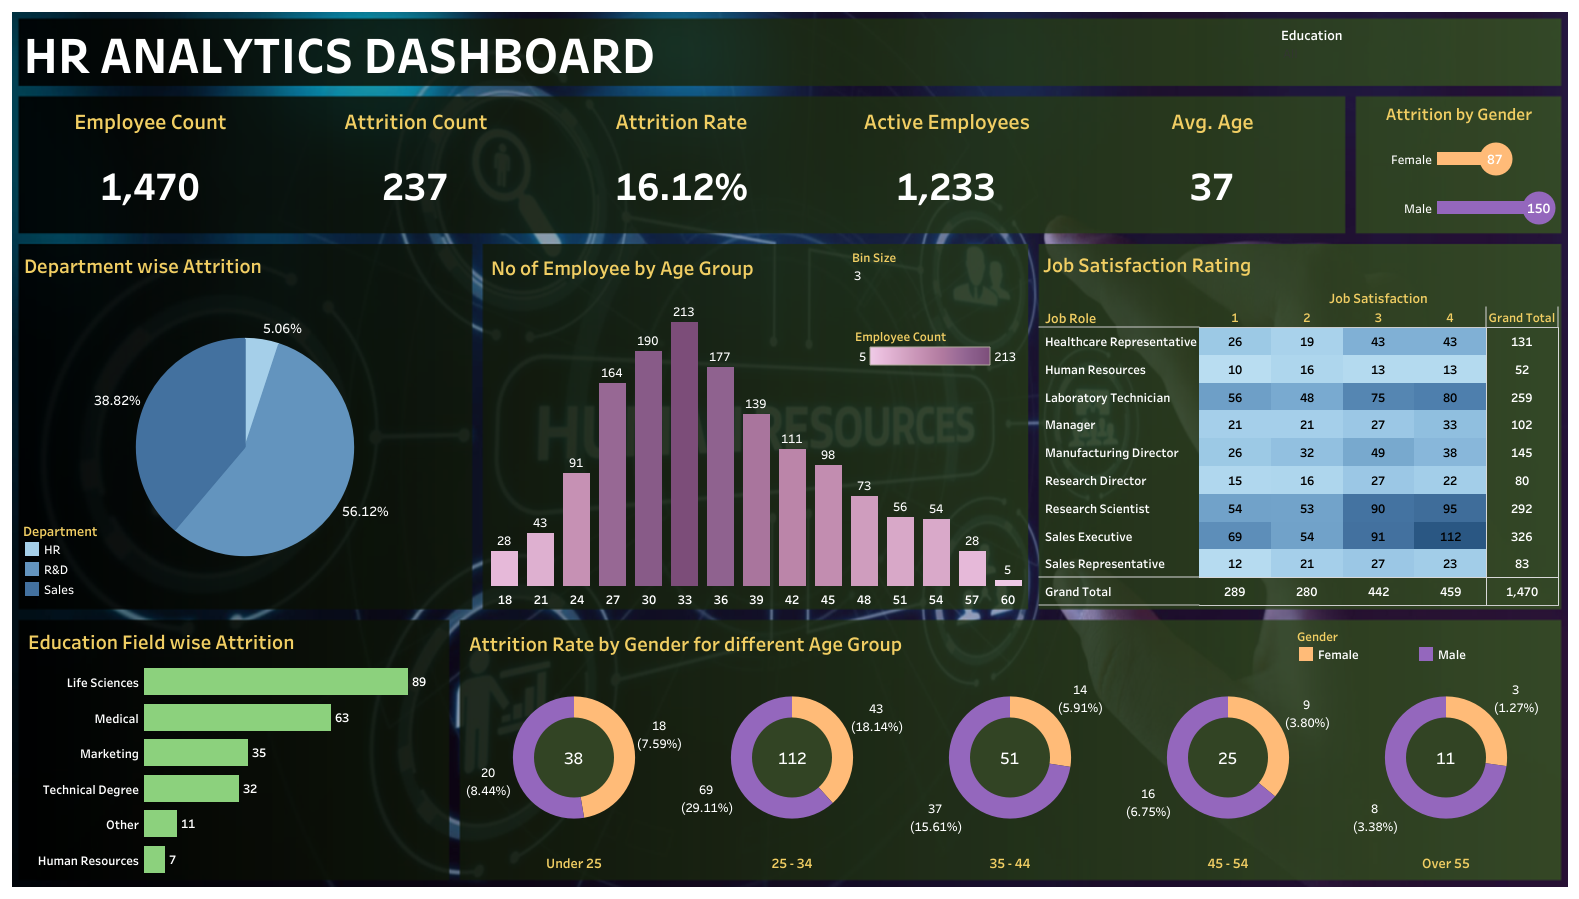

This screenshot's page, from the dashboard's own definition file:
{"tool":"tableau","page":{"name":"HR ANALYTICS DASHBOARD","canvas":[1580,900],"ordinal":0},"visuals":[{"type":"image","param":"Image/HR background.pptx.png","box":[8,8,1564,884]},{"type":"text","box":[21,24,875,57]},{"type":"filter","title":"Department wise Attrition","param":"[federated.1qkpnyk1rww0y913zxd4t0wybe6x].[none:Education:nk]","box":[1281,24,267,58]},{"type":"worksheet","title":"KPI","mark":"Automatic","box":[18,95,1327,139]},{"type":"worksheet","title":"Attrition by Gender","mark":"Automatic","rows":["Gender"],"cols":["Calculation_361132395293319168","Calculation_361132395293319168"],"box":[1357,96,204,136]},{"type":"worksheet","title":"Job Satisfaction Rating","mark":"Square","rows":["Job Role"],"cols":["Job Satisfaction"],"box":[1039,245,520,361]},{"type":"worksheet","title":"Department wise Attrition","mark":"Pie","box":[20,246,450,360]},{"type":"parameter","param":"[Parameters].[Parameter 1]","box":[852,247,173,67]},{"type":"worksheet","title":"No of Employee by Age Group","mark":"Automatic","rows":["Employee Count"],"cols":["Age (bin)"],"box":[487,248,539,360]},{"type":"legend","title":"No of Employee by Age Group","param":"[federated.1qkpnyk1rww0y913zxd4t0wybe6x].[sum:Employee Count:qk]","box":[855,323,166,51]},{"type":"legend","title":"Department wise Attrition","param":"[federated.1qkpnyk1rww0y913zxd4t0wybe6x].[none:Department:nk]","box":[22,519,140,85]},{"type":"worksheet","title":"Education Field wise Attrition","mark":"Automatic","rows":["Education Field"],"cols":["Calculation_361132395293319168"],"box":[24,622,423,255]},{"type":"worksheet","title":"Attrition Rate by Gender for different Age Group","mark":"Pie","rows":["Calculation_495395959450542081","Calculation_495395959450542081"],"cols":["CF_age band"],"box":[465,624,1090,248]},{"type":"legend","title":"Attrition Rate by Gender for different Age Group","param":"[federated.1qkpnyk1rww0y913zxd4t0wybe6x].[none:Gender:nk]","box":[1296,625,261,58]}]}

Visuals, with their boxes in screenshot pixels (x1, y1, x2, y2), scaled from the page's 1580x900 canvas onto the 1579x899 screenshot:
image: [8,8,1571,891]
text: [21,24,895,81]
"Department wise Attrition" filter: [1280,24,1547,82]
"KPI" worksheet: [18,95,1344,234]
"Attrition by Gender" worksheet: [1356,96,1560,232]
"Job Satisfaction Rating" worksheet (Square marks): [1038,245,1558,605]
"Department wise Attrition" worksheet (Pie marks): [20,246,470,605]
parameter: [851,247,1024,314]
"No of Employee by Age Group" worksheet: [487,248,1025,607]
"No of Employee by Age Group" legend: [854,323,1020,374]
"Department wise Attrition" legend: [22,518,162,603]
"Education Field wise Attrition" worksheet: [24,621,447,876]
"Attrition Rate by Gender for different Age Group" worksheet (Pie marks): [465,623,1554,871]
"Attrition Rate by Gender for different Age Group" legend: [1295,624,1556,682]
